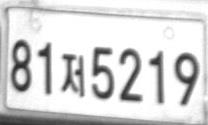1: (146, 50, 171, 104), (34, 42, 58, 95)
2: (118, 47, 143, 101)
5: (90, 46, 115, 100)
8: (10, 38, 32, 92)
9: (173, 51, 200, 105)
저: (60, 53, 85, 97)
